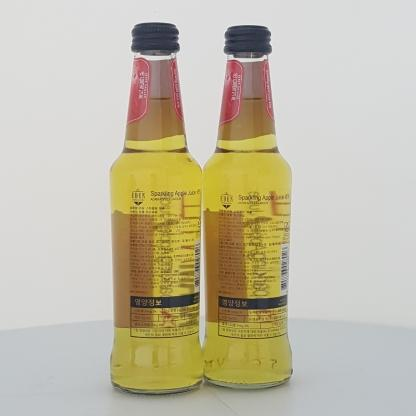----------------: (108, 21, 205, 395), (201, 25, 293, 391)
